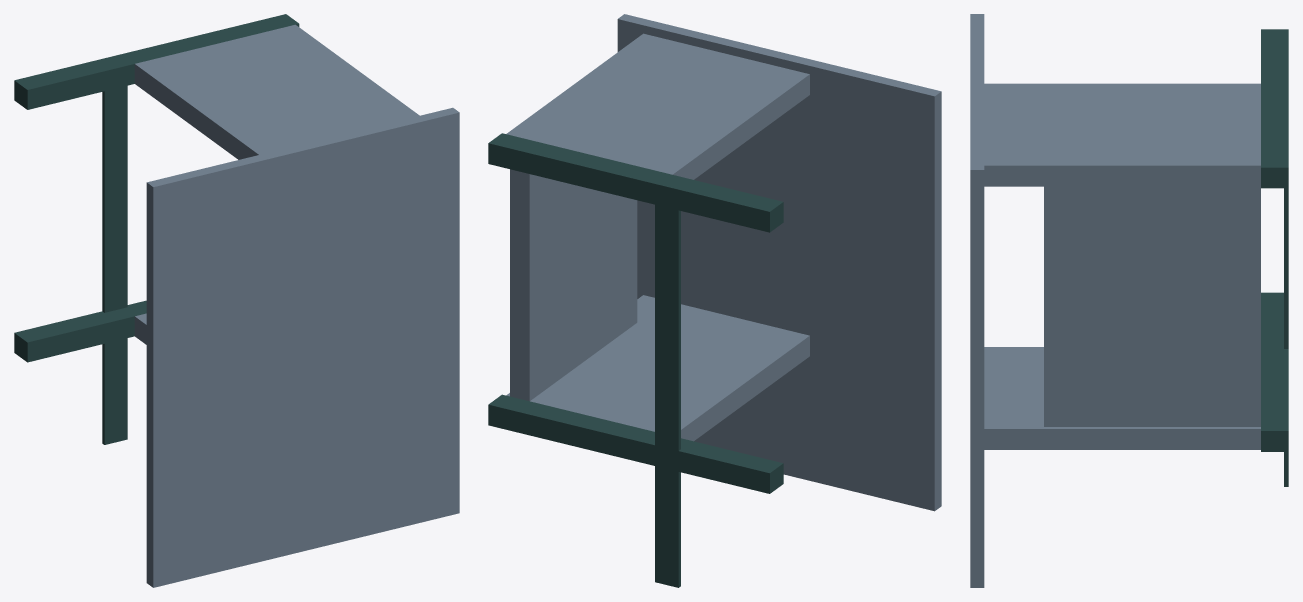
File: nil_link_mesh.dae
3 views of the same model, side by side, from view 1: azimuth 30°, elevation 25°; view 2: azimuth 150°, elevation 25°; view 3: azimuth 270°, elevation 25° (orthographic). The views are drawn at different scales.
Parts seen in each view (by area): view 1: nil_link (×5); view 2: nil_link (×7); view 3: nil_link (×7).
Part boxes in pixels (bbox=[...]): nil_link (×5): bbox=[14, 14, 459, 587]; nil_link (×7): bbox=[488, 14, 941, 587]; nil_link (×7): bbox=[970, 14, 1288, 587].
Size of the model in its own units: 0.8 by 1 by 0.69.
